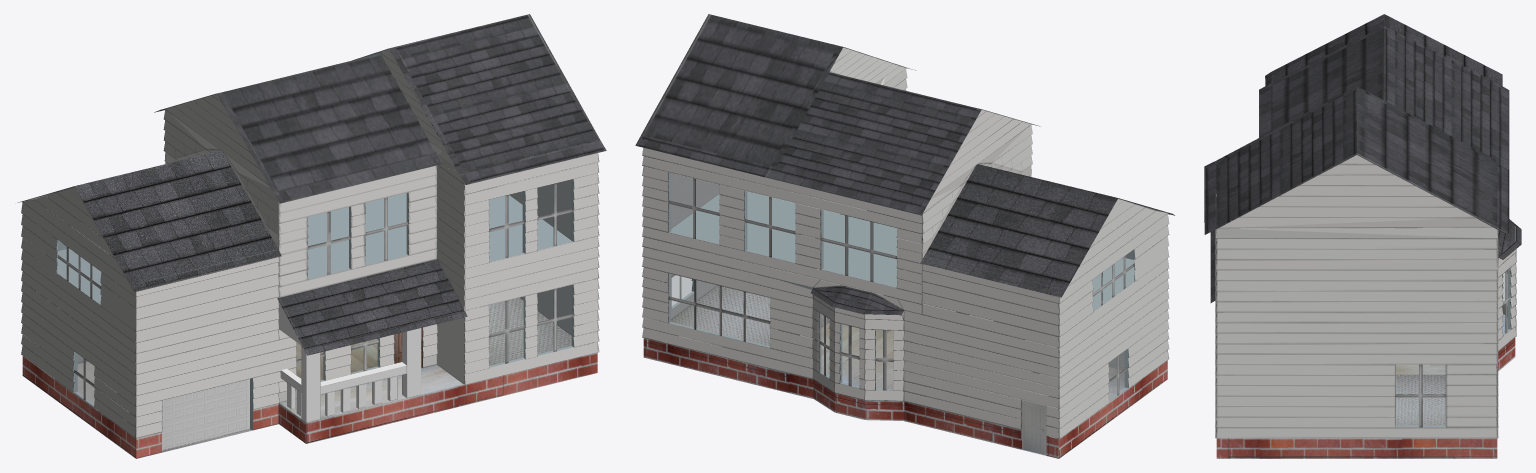
File: White_Suburban_House.FBX
3 renders of one model, left to right at view 1: azimuth 30°, elevation 25°; view 2: azimuth 150°, elevation 25°; view 3: azimuth 270°, elevation 25°, orthographic. The views are drawn at different scales.
Visible parts, largest first — view 1: Plane_001; view 2: Plane_001; view 3: Plane_001.
Boxes of the visible parts, x1,y1,x2,y2 form: Plane_001: (17, 14, 606, 458); Plane_001: (635, 14, 1174, 458); Plane_001: (1204, 14, 1521, 458).
Size of the model in its own units: 16.48 by 10.93 by 10.28.
Materials: 37 (33 with a texture image).
